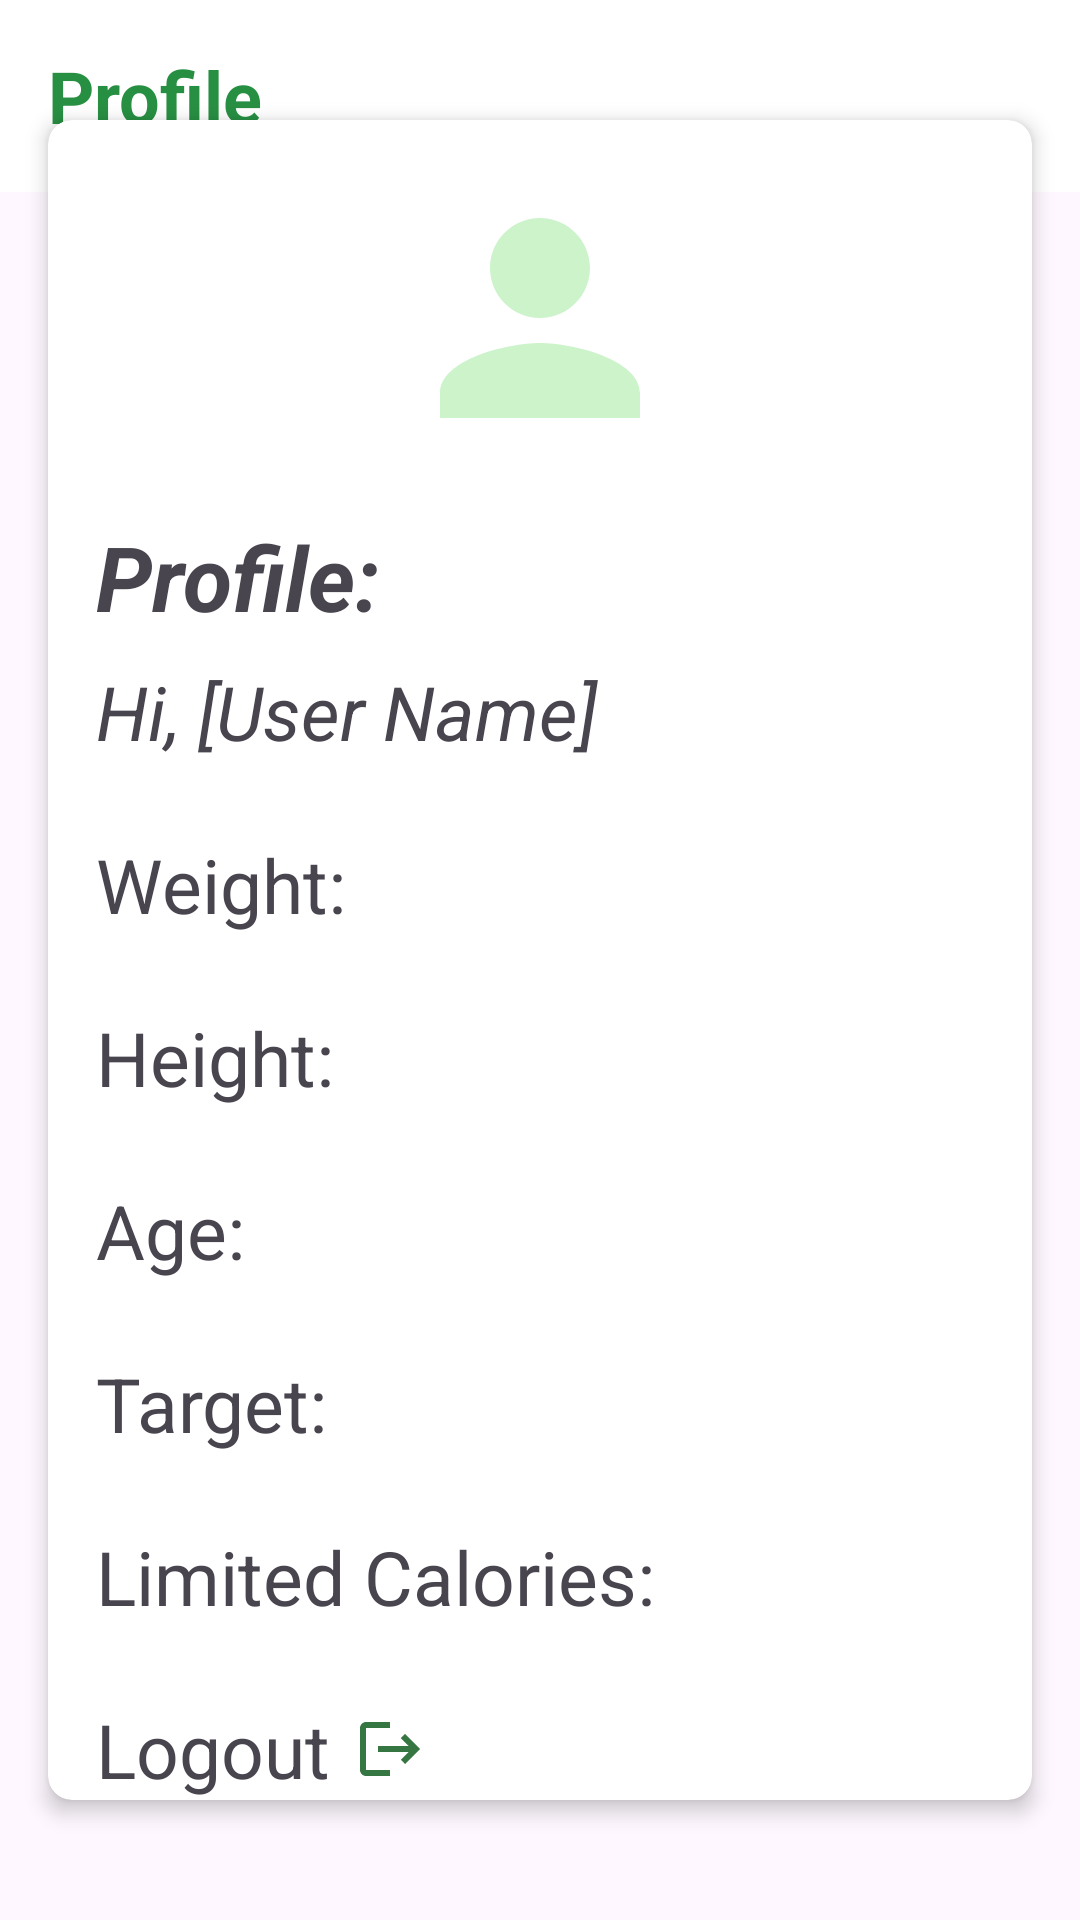

Where to tap for icons on this 1080*1920 app screen, as [x,y]:
login person: [540,318]
